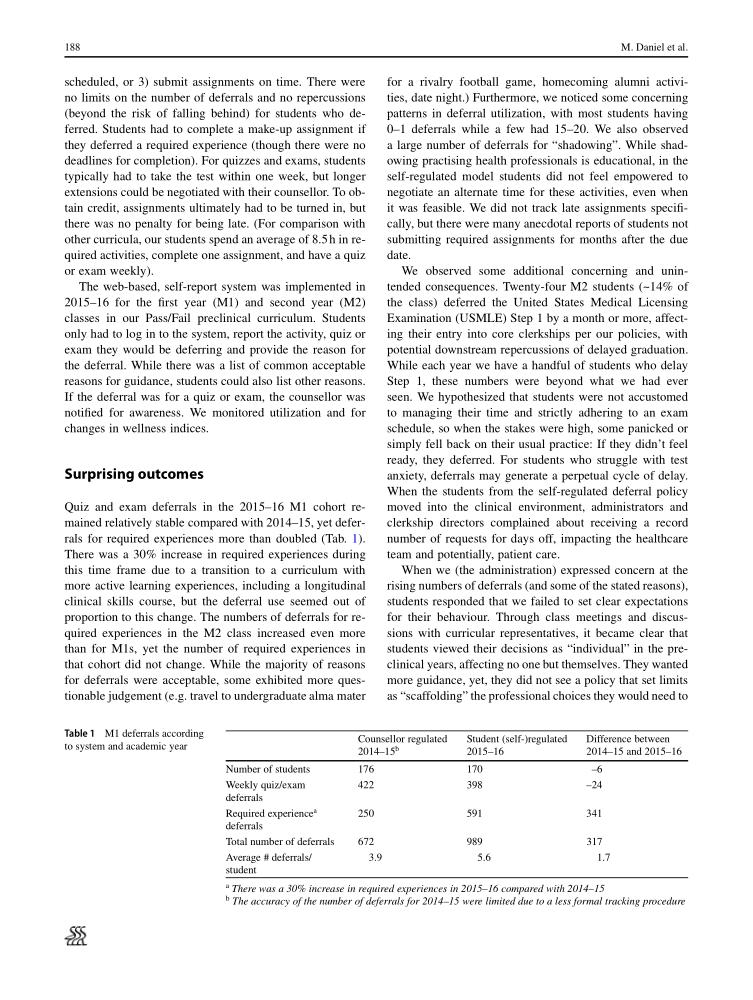table: (225, 732, 681, 875)
